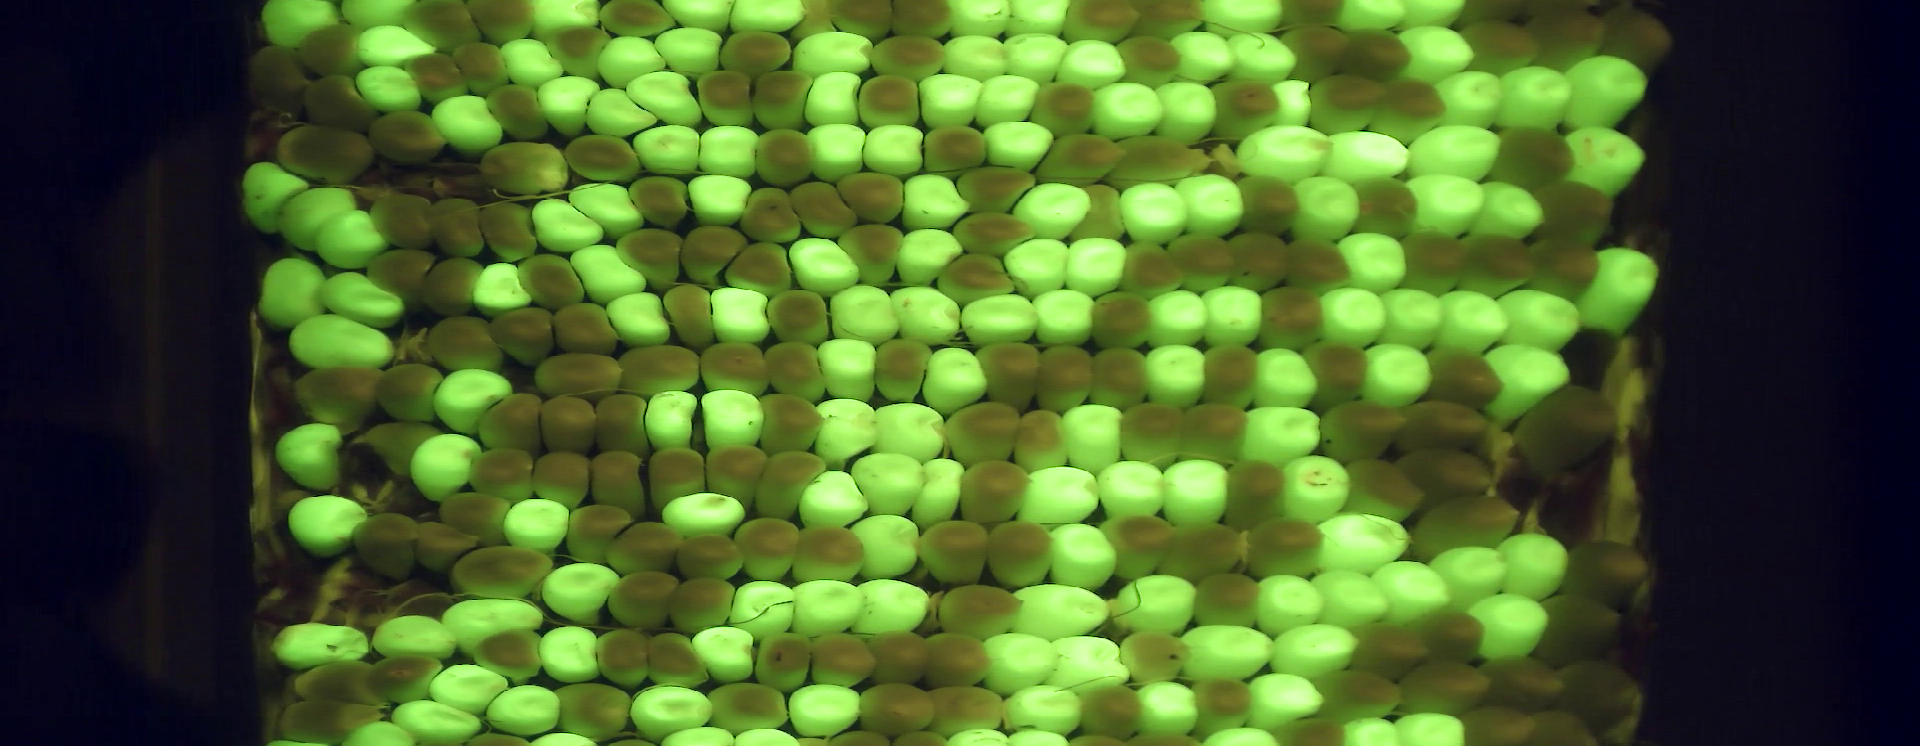fluorescent: (1569, 241, 1663, 341), (1553, 48, 1652, 134), (1480, 334, 1578, 418), (1226, 118, 1341, 187), (269, 179, 370, 257), (1000, 578, 1116, 646), (433, 590, 546, 659), (1556, 118, 1651, 197), (285, 311, 402, 375), (1173, 621, 1284, 687), (1401, 116, 1506, 186), (1400, 168, 1491, 247), (1309, 508, 1419, 575), (1033, 516, 1127, 593), (229, 156, 313, 240), (1036, 628, 1140, 697), (263, 415, 350, 497), (1490, 284, 1588, 356), (1464, 588, 1555, 665), (427, 363, 520, 437), (1007, 462, 1106, 532), (312, 266, 413, 334), (1489, 58, 1576, 136), (1109, 567, 1204, 639), (842, 510, 931, 587), (1423, 538, 1513, 612), (844, 447, 934, 521), (1238, 568, 1335, 637), (1365, 555, 1460, 625), (280, 491, 371, 563), (407, 428, 489, 507), (1495, 523, 1577, 603), (566, 240, 658, 311), (253, 254, 331, 338), (1156, 454, 1240, 532), (1236, 401, 1331, 468), (1273, 450, 1357, 527), (975, 628, 1071, 695), (1267, 617, 1363, 684), (847, 573, 934, 646), (626, 679, 722, 744), (1281, 171, 1364, 246), (1466, 175, 1549, 250), (950, 287, 1046, 352), (266, 620, 380, 674), (536, 555, 626, 624), (1430, 285, 1512, 360), (1314, 126, 1418, 185), (911, 344, 996, 416), (1081, 75, 1168, 145), (780, 232, 868, 300), (654, 484, 753, 544), (1116, 176, 1194, 252), (804, 393, 884, 468), (1089, 457, 1177, 524), (869, 397, 953, 468), (1128, 676, 1212, 746), (1237, 670, 1331, 733), (381, 691, 487, 746), (693, 376, 770, 452), (1248, 341, 1325, 416), (1357, 339, 1438, 412), (820, 279, 909, 345), (780, 676, 869, 741), (784, 575, 869, 642), (564, 176, 655, 240), (1173, 168, 1251, 241), (1311, 281, 1393, 350), (424, 659, 517, 720), (1387, 23, 1480, 85), (1056, 401, 1133, 474), (1138, 339, 1216, 412), (1005, 180, 1100, 240), (427, 89, 507, 160), (724, 571, 804, 641), (524, 194, 612, 257), (309, 207, 392, 274), (1332, 229, 1416, 296), (784, 26, 883, 82), (889, 222, 964, 296), (1431, 62, 1510, 134), (998, 230, 1079, 299), (367, 608, 462, 666), (686, 619, 762, 691), (885, 281, 970, 345), (791, 465, 876, 530), (497, 29, 574, 100), (806, 331, 884, 401), (891, 167, 972, 234), (702, 281, 778, 352), (1305, 566, 1395, 626), (620, 66, 705, 129), (599, 285, 680, 352), (1149, 75, 1224, 145), (998, 680, 1090, 737), (980, 111, 1060, 176), (801, 116, 874, 187), (1221, 26, 1303, 88), (691, 116, 765, 185), (496, 494, 574, 559), (627, 118, 707, 181), (255, 1, 348, 55), (478, 682, 564, 740), (590, 29, 673, 89), (1027, 282, 1100, 350), (1141, 285, 1213, 354), (1371, 283, 1449, 347), (910, 69, 988, 131), (579, 81, 659, 142), (1195, 281, 1269, 347), (682, 170, 763, 230), (1054, 29, 1130, 93), (907, 452, 971, 528), (1059, 233, 1131, 299), (1167, 24, 1240, 89), (636, 383, 700, 457), (531, 621, 605, 686), (860, 120, 937, 181), (349, 60, 432, 116), (351, 23, 444, 73), (996, 29, 1076, 87), (970, 71, 1047, 131), (536, 69, 602, 138), (465, 256, 539, 317), (798, 67, 872, 127), (933, 29, 1014, 83), (650, 20, 724, 78), (1194, 1, 1294, 39), (722, 1, 811, 42), (998, 1, 1078, 44), (1264, 75, 1322, 132), (527, 1, 605, 43), (659, 1, 743, 38), (1329, 1, 1413, 38), (939, 1, 1022, 37), (338, 1, 419, 36), (1389, 1, 1471, 34)
nonfluorescent: (1513, 380, 1622, 477), (1406, 490, 1527, 559), (444, 538, 561, 608), (1543, 654, 1646, 733), (1149, 512, 1253, 588), (1558, 537, 1660, 610), (1393, 443, 1500, 513), (290, 359, 389, 430), (1532, 588, 1626, 663), (978, 514, 1063, 598), (746, 445, 835, 523), (541, 675, 639, 746), (1487, 122, 1582, 195), (1528, 176, 1619, 252), (949, 454, 1042, 528), (1304, 665, 1413, 728), (271, 120, 377, 184), (1089, 507, 1184, 578), (1100, 130, 1201, 196), (1452, 232, 1547, 303), (934, 577, 1033, 644), (1311, 394, 1411, 462), (1419, 341, 1510, 414), (468, 138, 574, 201), (1336, 454, 1429, 526), (1236, 512, 1333, 579), (937, 393, 1025, 468), (1392, 655, 1498, 718), (1367, 73, 1452, 149), (1523, 4, 1616, 73), (1104, 394, 1191, 469), (342, 507, 424, 586), (965, 336, 1049, 412), (910, 628, 1007, 695), (1344, 620, 1438, 688), (1392, 394, 1496, 456), (912, 513, 996, 589), (353, 412, 449, 477), (1032, 130, 1136, 190), (1251, 281, 1333, 356), (1212, 451, 1296, 526), (591, 514, 687, 579), (1106, 622, 1202, 686), (787, 518, 876, 588), (238, 40, 317, 118), (1064, 674, 1153, 742), (1296, 336, 1378, 410), (751, 386, 834, 459), (1521, 232, 1605, 304), (1302, 70, 1393, 136), (422, 310, 509, 380), (269, 693, 384, 746), (696, 677, 798, 736), (1453, 12, 1547, 77), (1473, 650, 1566, 715), (557, 122, 647, 190), (610, 341, 708, 402), (1333, 20, 1419, 89), (917, 679, 1013, 741), (1344, 168, 1424, 243), (721, 510, 808, 577), (699, 437, 773, 517), (512, 247, 595, 317), (660, 570, 743, 639), (798, 627, 888, 692), (1111, 236, 1195, 305), (293, 71, 383, 135), (1029, 336, 1103, 413), (1082, 341, 1160, 415), (1596, 1, 1674, 75), (1158, 229, 1245, 295), (358, 243, 438, 314), (364, 103, 456, 165), (757, 334, 835, 407), (932, 249, 1022, 311), (465, 620, 549, 687), (284, 657, 388, 710), (556, 499, 639, 566), (856, 624, 942, 688), (609, 222, 688, 292), (1171, 396, 1250, 465), (756, 283, 836, 352), (942, 207, 1040, 263), (468, 195, 542, 268), (733, 179, 811, 250), (606, 563, 686, 632), (468, 390, 549, 457), (718, 234, 800, 300), (1206, 73, 1289, 138), (400, 510, 484, 575), (528, 349, 626, 404), (1221, 225, 1297, 296), (458, 440, 538, 507), (1280, 232, 1360, 298), (945, 160, 1044, 214), (867, 332, 938, 407), (833, 219, 909, 289), (1191, 563, 1267, 633), (369, 356, 444, 426), (522, 445, 598, 514), (362, 185, 440, 254), (852, 677, 940, 737), (786, 176, 864, 244), (1273, 21, 1356, 85), (419, 191, 492, 262), (1229, 170, 1305, 239), (432, 485, 516, 548), (486, 303, 563, 370), (358, 648, 449, 704), (1007, 402, 1076, 475), (746, 625, 819, 695), (696, 336, 778, 398), (852, 67, 929, 134), (621, 171, 700, 235), (748, 122, 819, 194), (584, 443, 653, 517), (1081, 285, 1156, 353), (667, 526, 749, 587), (591, 387, 658, 463), (529, 391, 607, 454), (1195, 339, 1266, 409), (862, 28, 954, 82), (583, 621, 656, 688), (1411, 609, 1491, 670), (675, 220, 749, 287), (478, 80, 553, 145), (1030, 80, 1104, 145), (660, 274, 722, 352), (691, 65, 762, 132), (550, 295, 621, 363), (1396, 227, 1467, 294), (711, 24, 800, 78), (831, 168, 912, 227), (294, 17, 370, 80), (918, 120, 994, 183), (1185, 674, 1262, 735), (396, 48, 478, 105), (418, 254, 485, 323), (398, 1, 485, 55), (1068, 178, 1134, 247), (637, 627, 711, 688), (1112, 29, 1188, 89), (640, 441, 711, 505), (539, 20, 615, 78), (747, 69, 817, 130), (1456, 701, 1548, 746), (459, 1, 541, 51), (448, 36, 516, 96), (1058, 1, 1144, 48), (1127, 1, 1213, 44), (594, 1, 682, 40), (887, 1, 962, 44), (1524, 707, 1602, 746), (825, 1, 900, 39), (1269, 712, 1351, 746), (1272, 1, 1353, 36), (784, 1, 840, 45)
